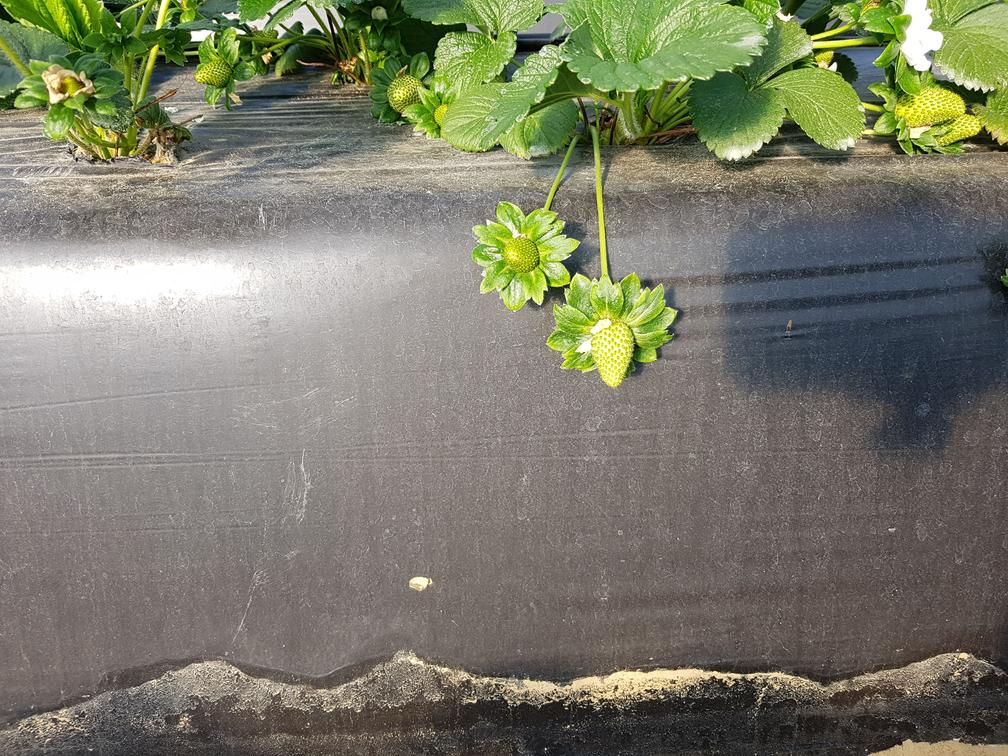Unripe: (586, 316, 640, 391), (503, 236, 550, 275)
